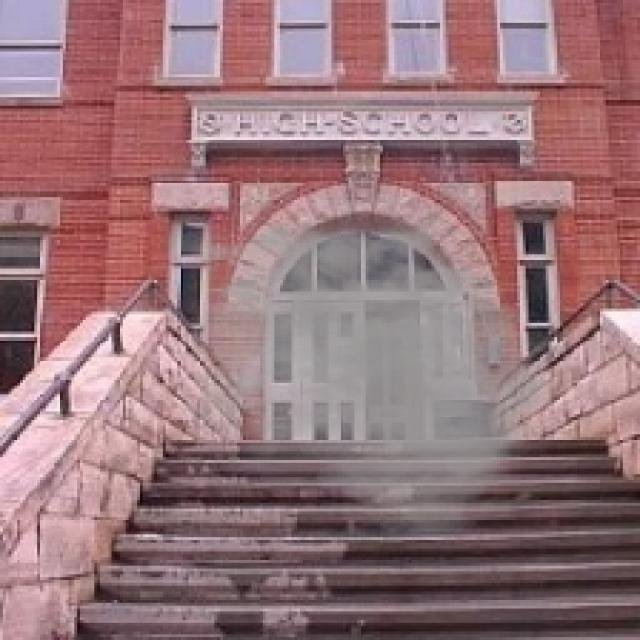smoke: (155, 203, 574, 548)
